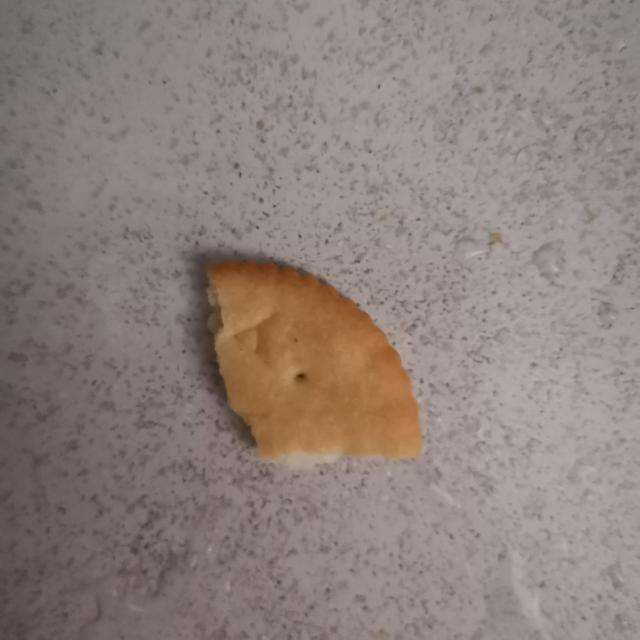Broken: (204, 258, 423, 464)
